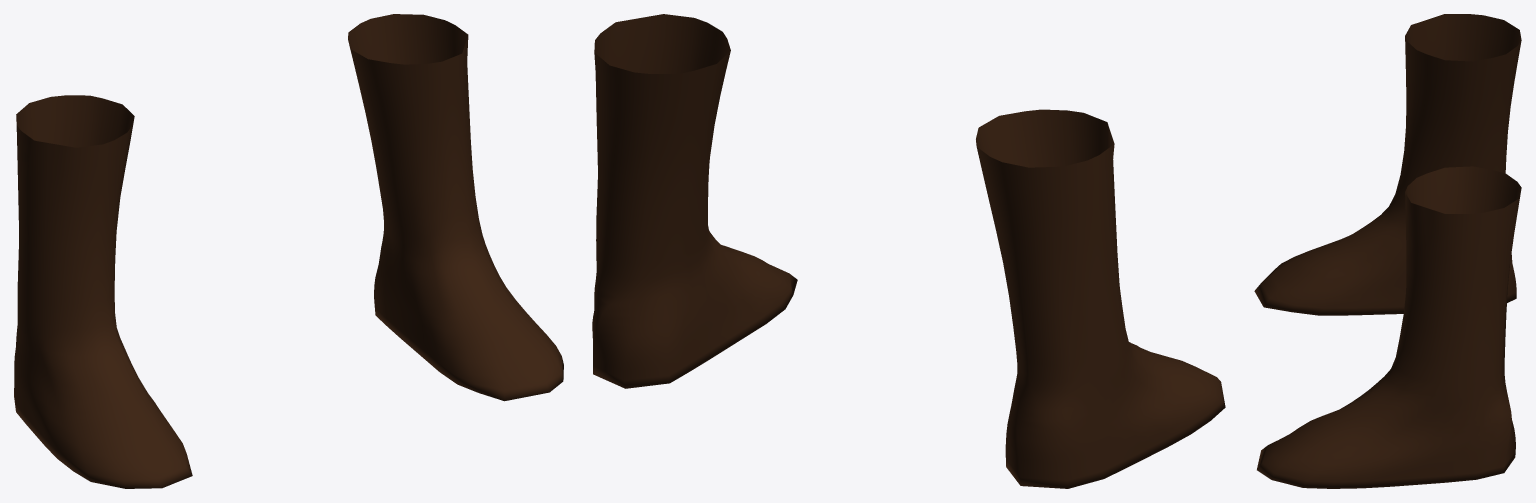
Rendered from boots.glb.
3 renders of one model, left to right at view 1: azimuth 30°, elevation 25°; view 2: azimuth 150°, elevation 25°; view 3: azimuth 270°, elevation 25°, orthographic. The views are drawn at different scales.
Parts seen in each view (by area): view 1: boots; view 2: boots; view 3: boots.
Part boxes in pixels (x1=…): boots: x1=14, y1=14, x2=563, y2=488; boots: x1=592, y1=14, x2=1225, y2=488; boots: x1=1254, y1=14, x2=1521, y2=488.
Size of the model in its own units: 0.5418 by 0.303 by 0.2774.
